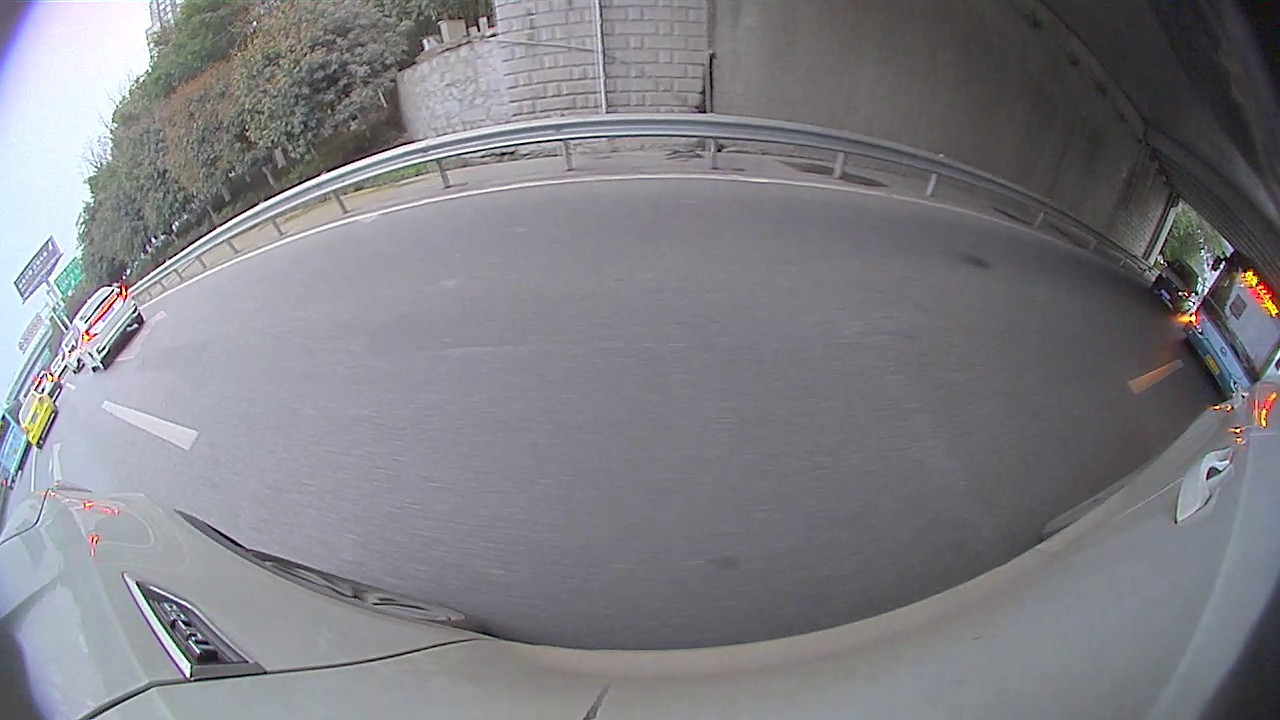bus: (1177, 246, 1278, 404)
car: (65, 283, 147, 375), (1147, 256, 1205, 315), (15, 386, 58, 450)
